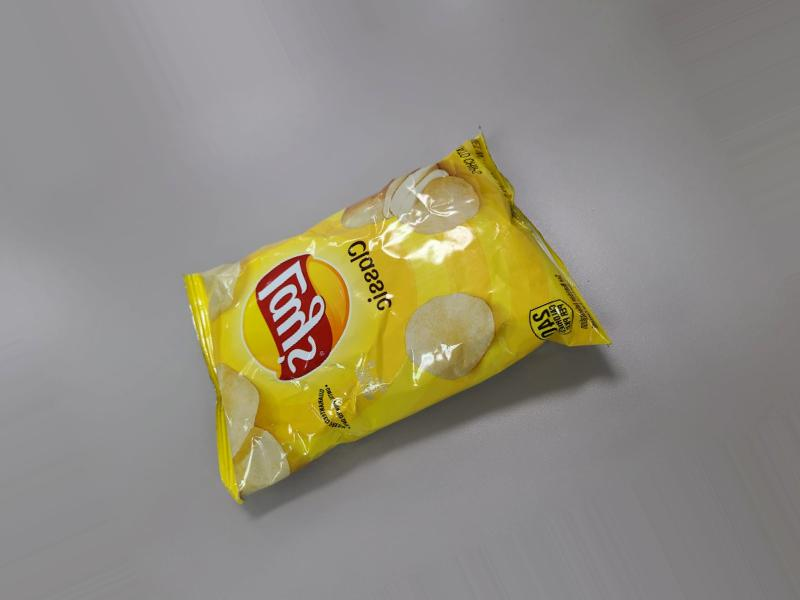lays: (197, 125, 574, 494)
